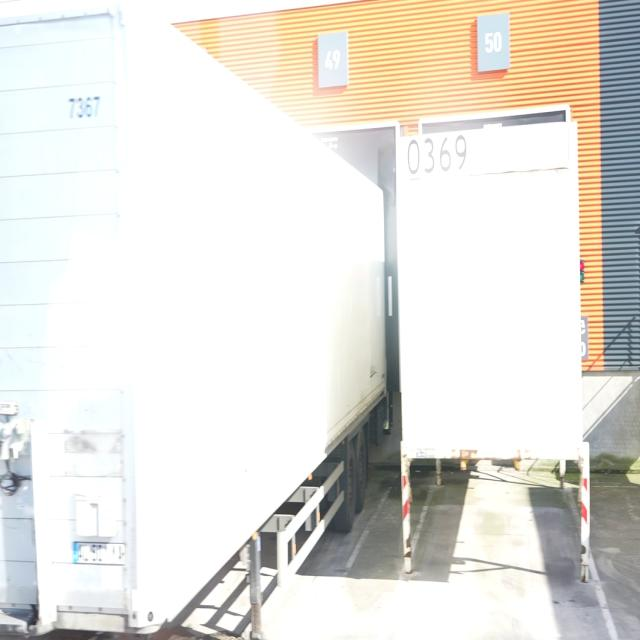Code: (406, 133, 468, 179), (63, 88, 107, 127)
